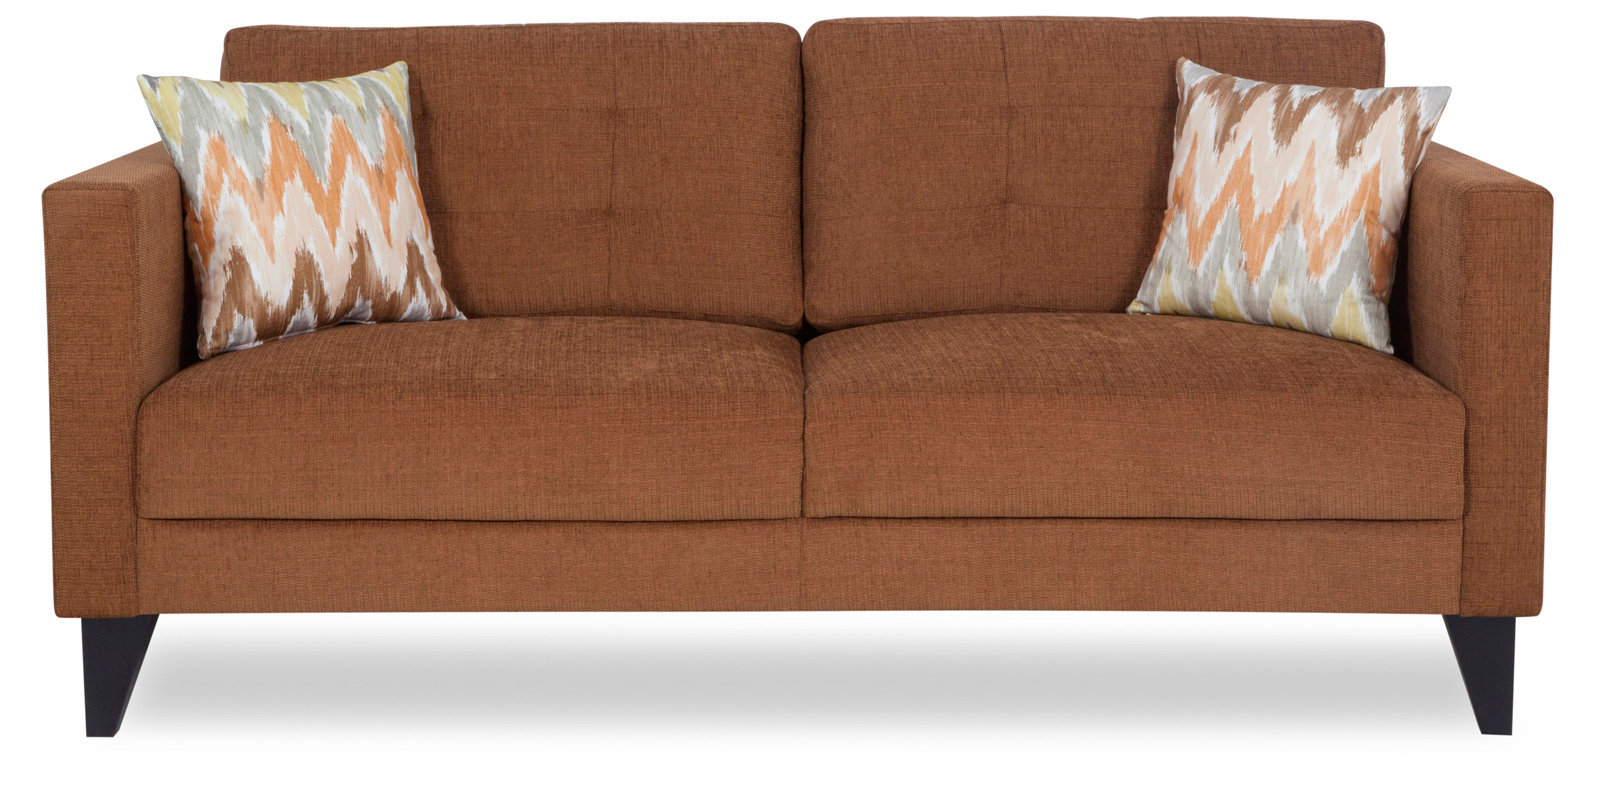Greenwich Three Seater Sofa in Caramel Brown Colour by Urban Living: (27, 13, 1564, 761)
